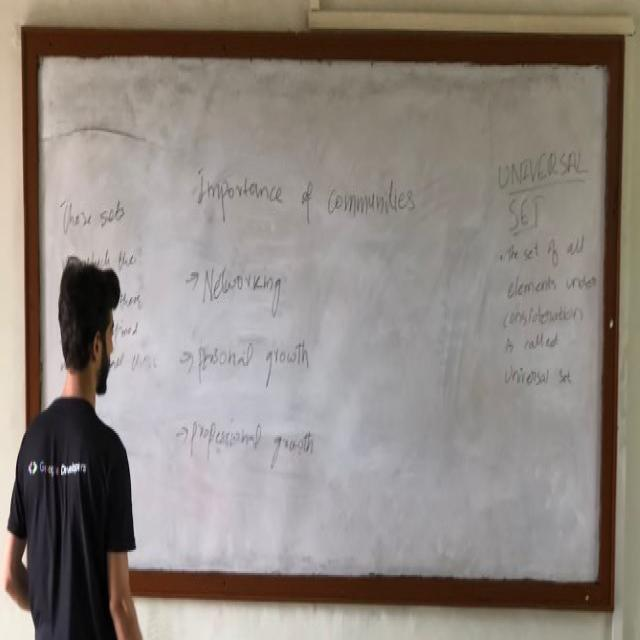Instructor: (25, 234, 133, 640)
White-board: (29, 45, 616, 599)
